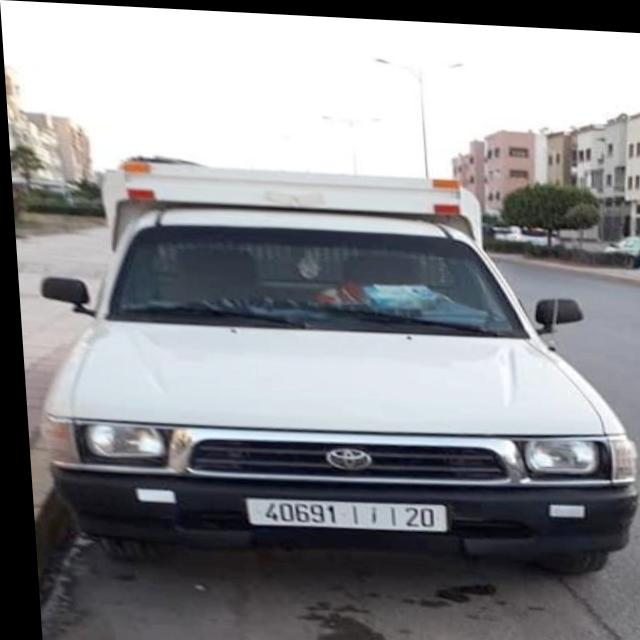License-Plate: (239, 495, 441, 528)
